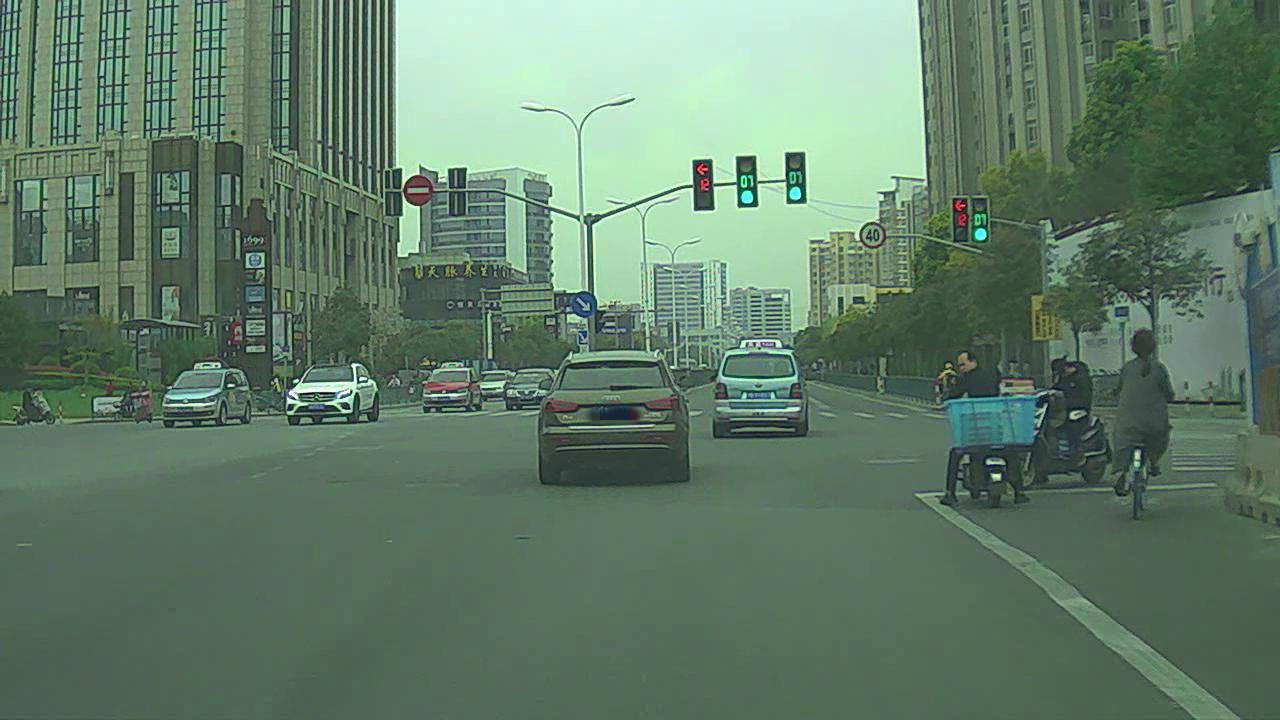traffic_light: (695, 158, 718, 211), (950, 193, 974, 243), (737, 155, 759, 207), (785, 154, 807, 202), (974, 195, 991, 242)
